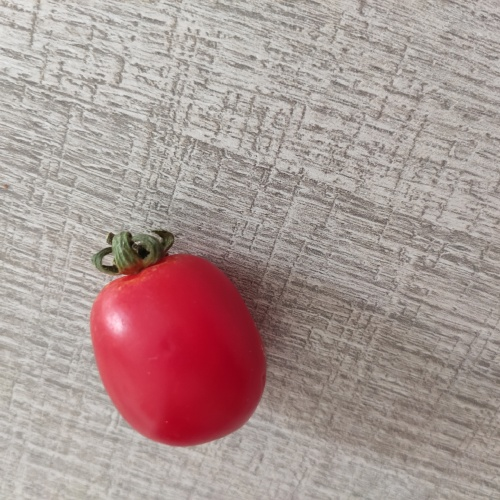pomodoro: (86, 226, 275, 450)
